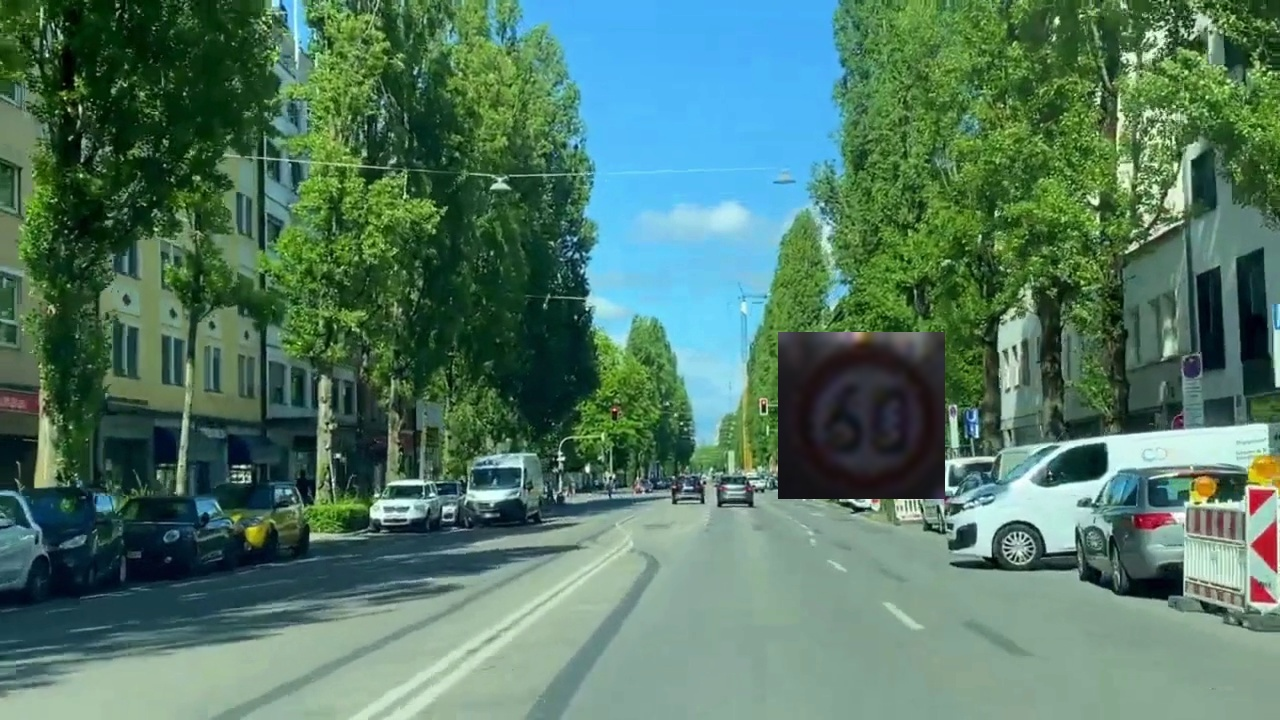Speed 60: (778, 332, 945, 499)
